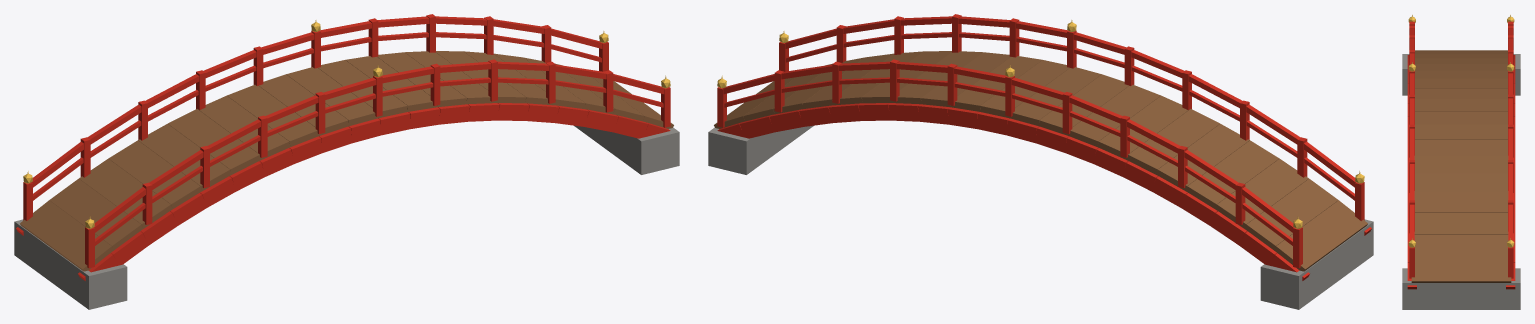
File: bridge.fbx
3 views of the same model, side by side, from view 1: azimuth 30°, elevation 25°; view 2: azimuth 150°, elevation 25°; view 3: azimuth 270°, elevation 25° (orthographic). The views are drawn at different scales.
Parts seen in each view (by area): view 1: Bridge_Red, Bridge_Deck, Bridge_Stone, Bridge_Gold; view 2: Bridge_Red, Bridge_Deck, Bridge_Stone, Bridge_Gold; view 3: Bridge_Deck, Bridge_Red, Bridge_Stone, Bridge_Gold.
Part boxes in pixels (box(x1,y1,x2,y2)): Bridge_Red: box(16, 14, 670, 280); Bridge_Deck: box(20, 51, 673, 271); Bridge_Stone: box(14, 125, 679, 309); Bridge_Gold: box(23, 20, 670, 228); Bridge_Red: box(717, 14, 1371, 280); Bridge_Deck: box(714, 51, 1367, 271); Bridge_Stone: box(708, 125, 1373, 309); Bridge_Gold: box(717, 20, 1364, 228); Bridge_Deck: box(1411, 50, 1511, 282); Bridge_Red: box(1407, 21, 1515, 289); Bridge_Stone: box(1402, 54, 1520, 309); Bridge_Gold: box(1408, 15, 1514, 247).
Size of the model in its own units: 40.46 by 11 by 8.8.
